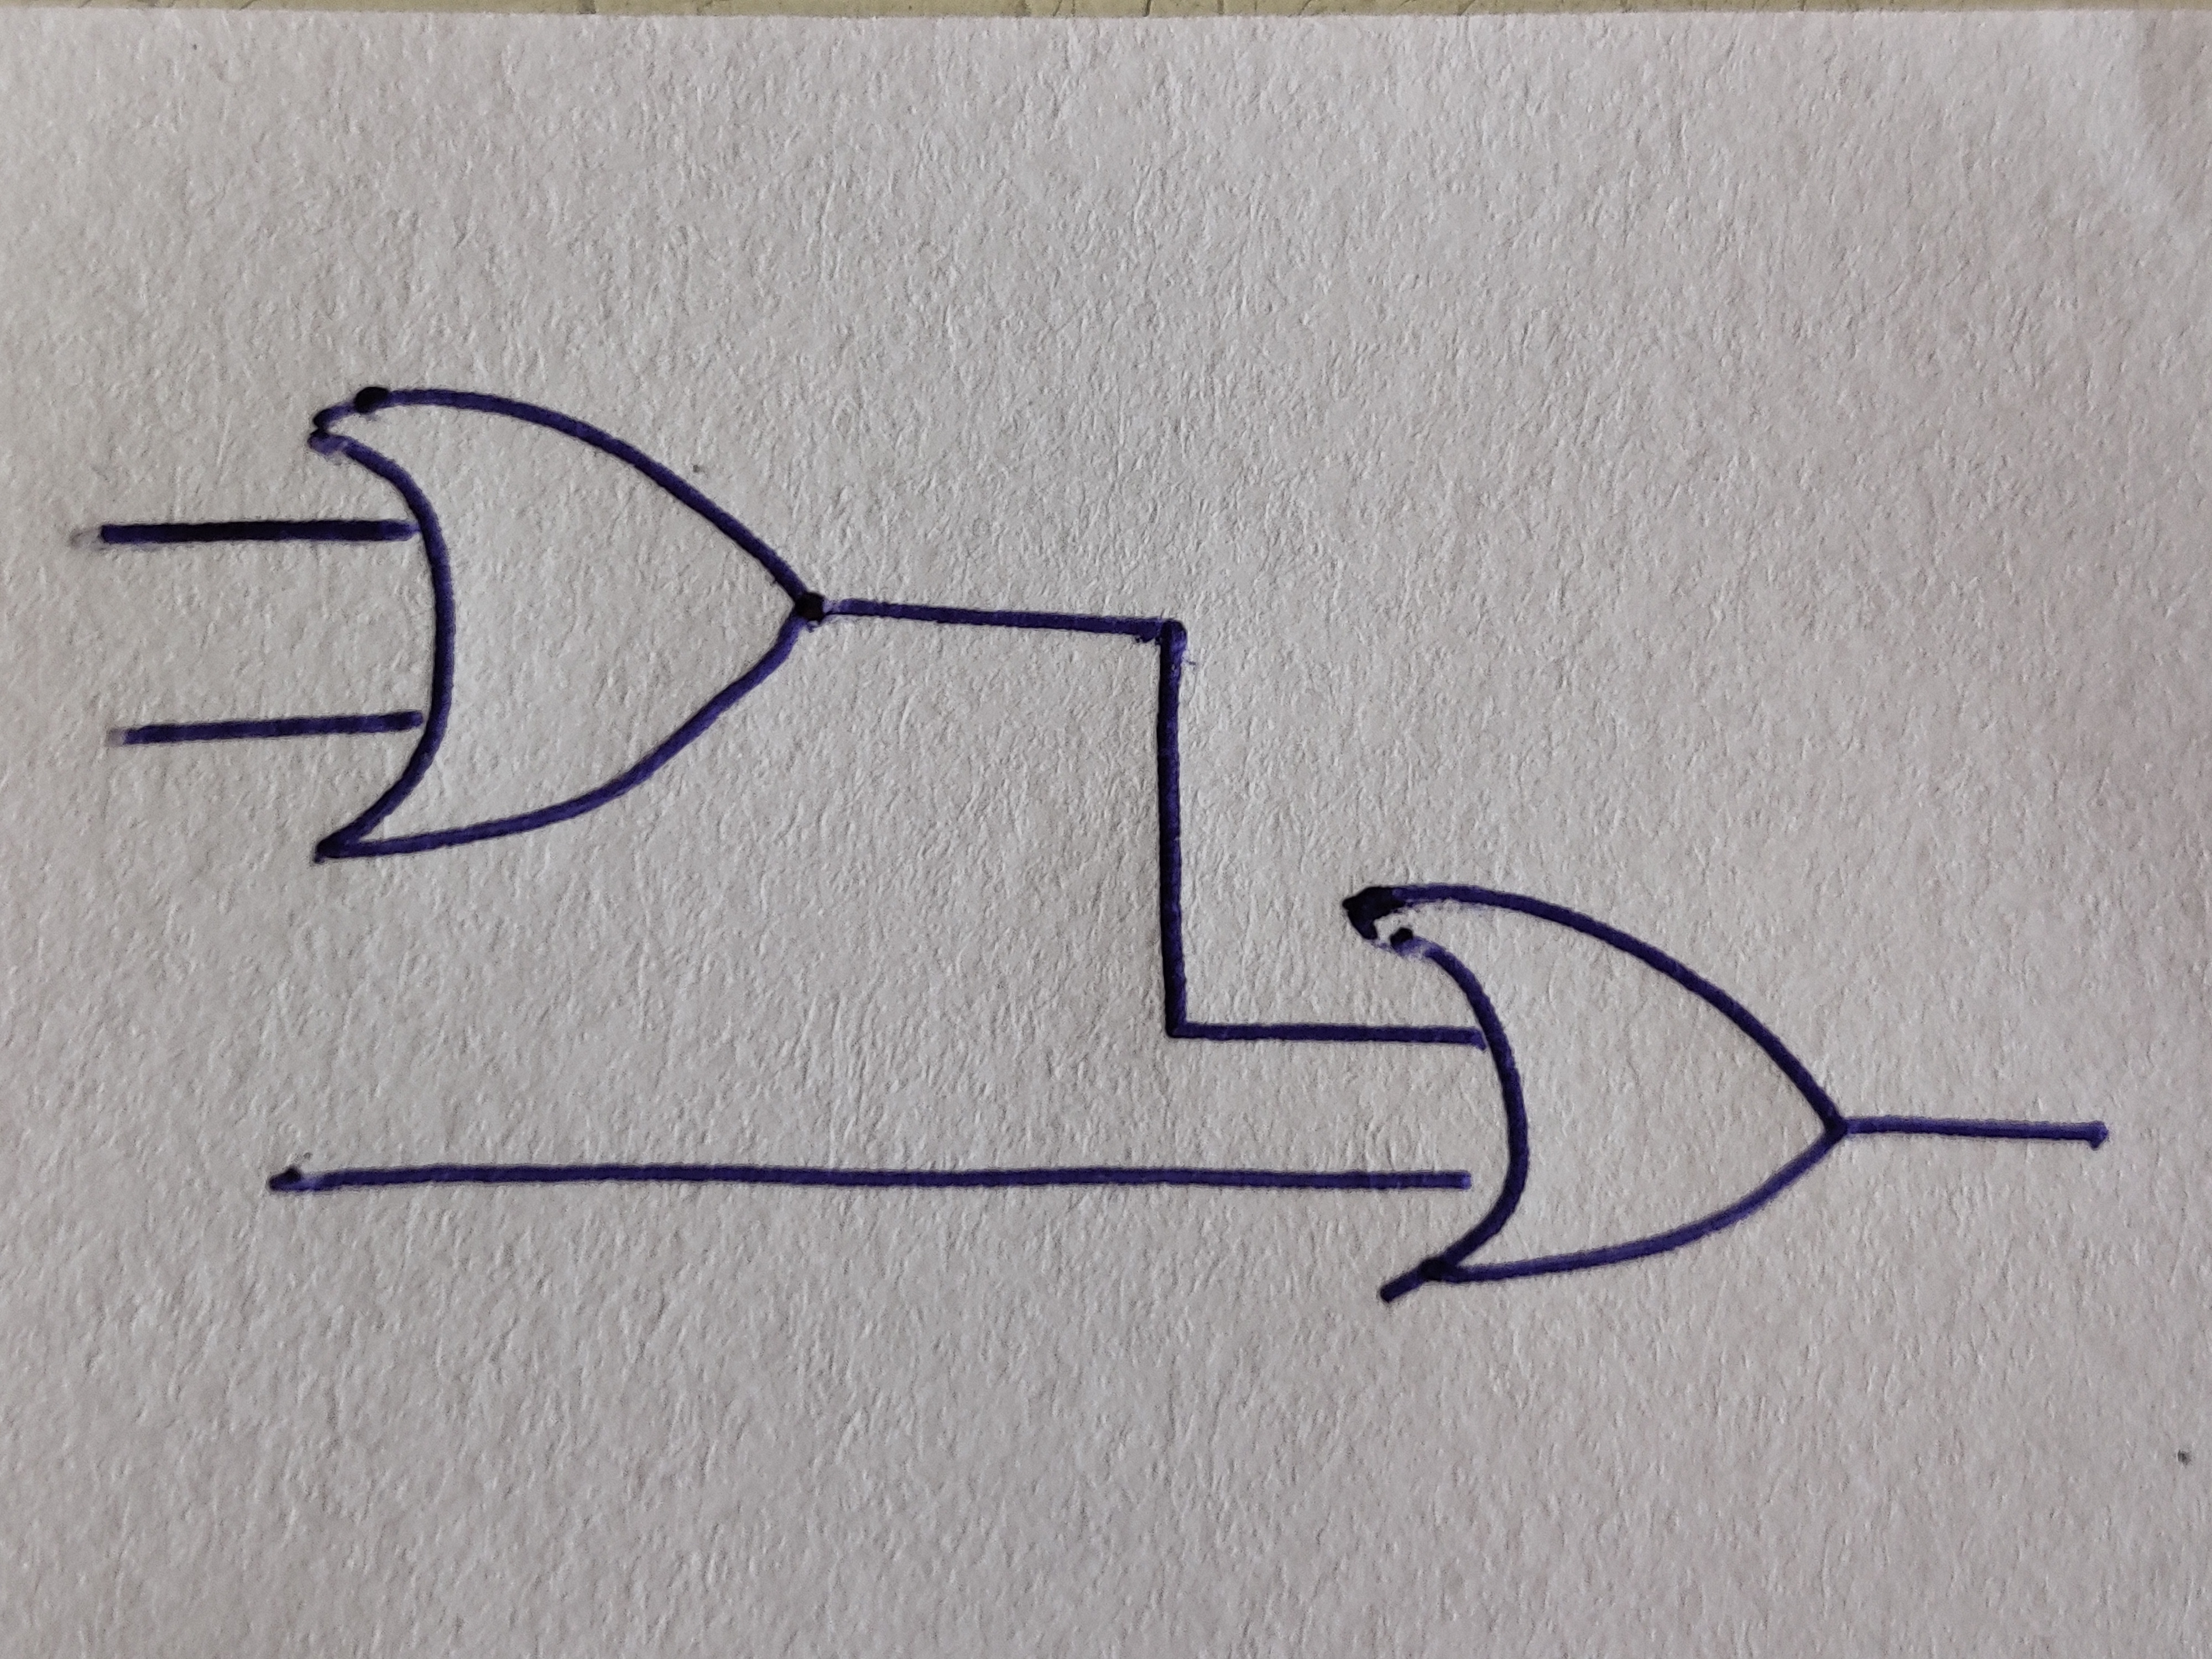or: (307, 387, 826, 863), (1345, 885, 1848, 1300)
